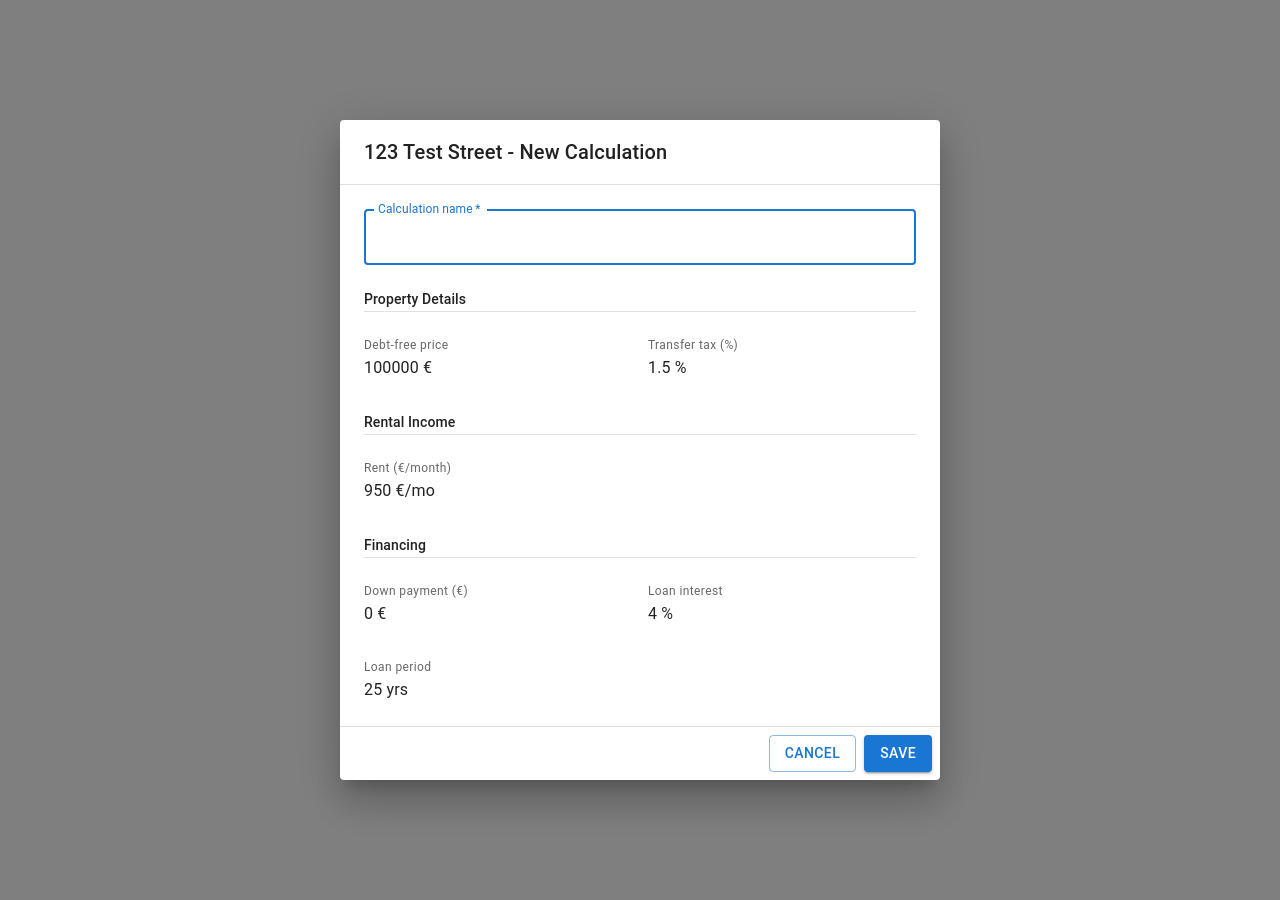
Test case: InvestmentAddDialog › editable fields › rent field is editable even when pre-filled from property
This screenshot has width=1280, height=900.
Expected: the dialog is shown, [340,120,940,780]
Note: Click on rent field to edit
Step 1. Click the text "950 €/mo" → (399, 491), box [364,481,435,500]
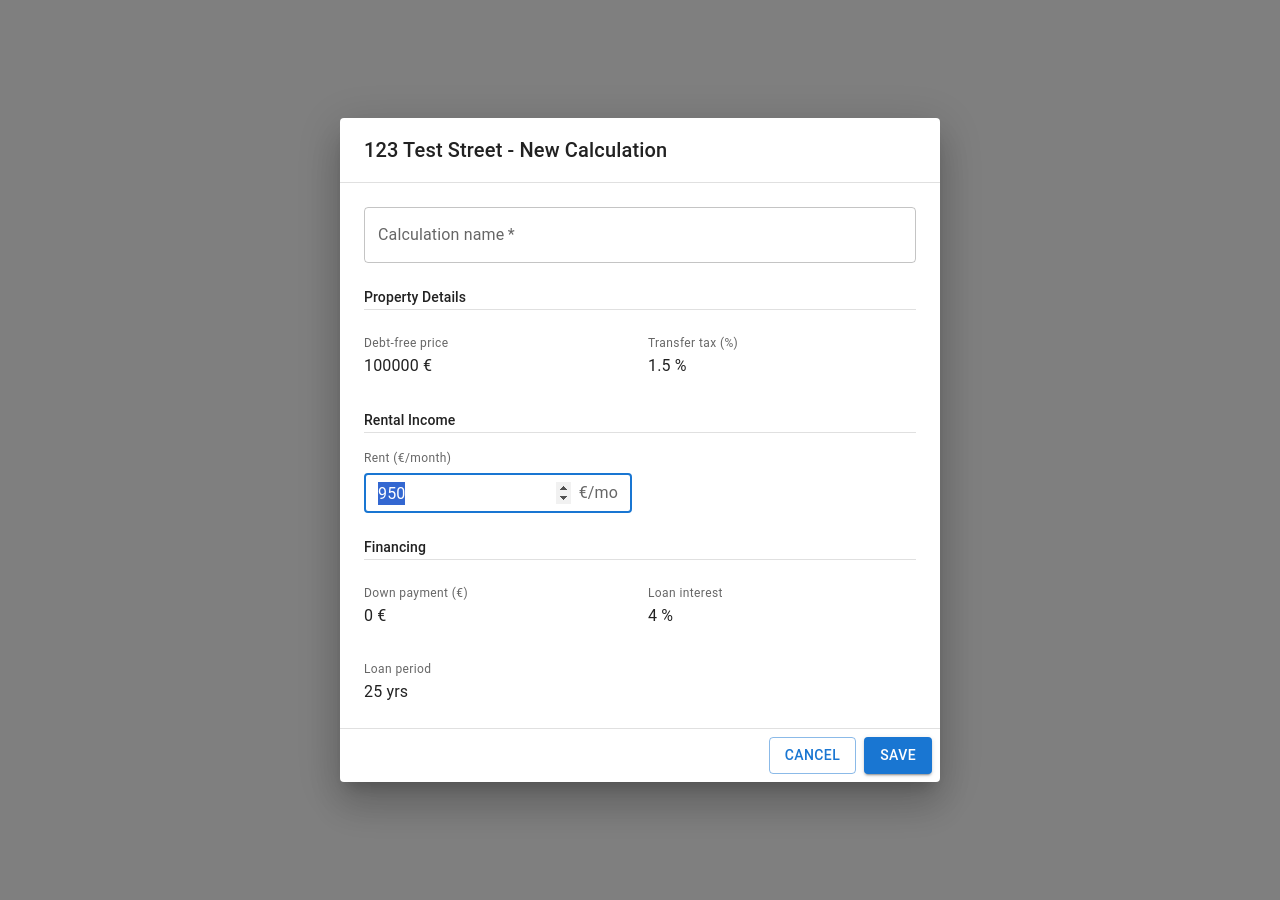
Now the number field holds "950", box [364,473,571,513]
